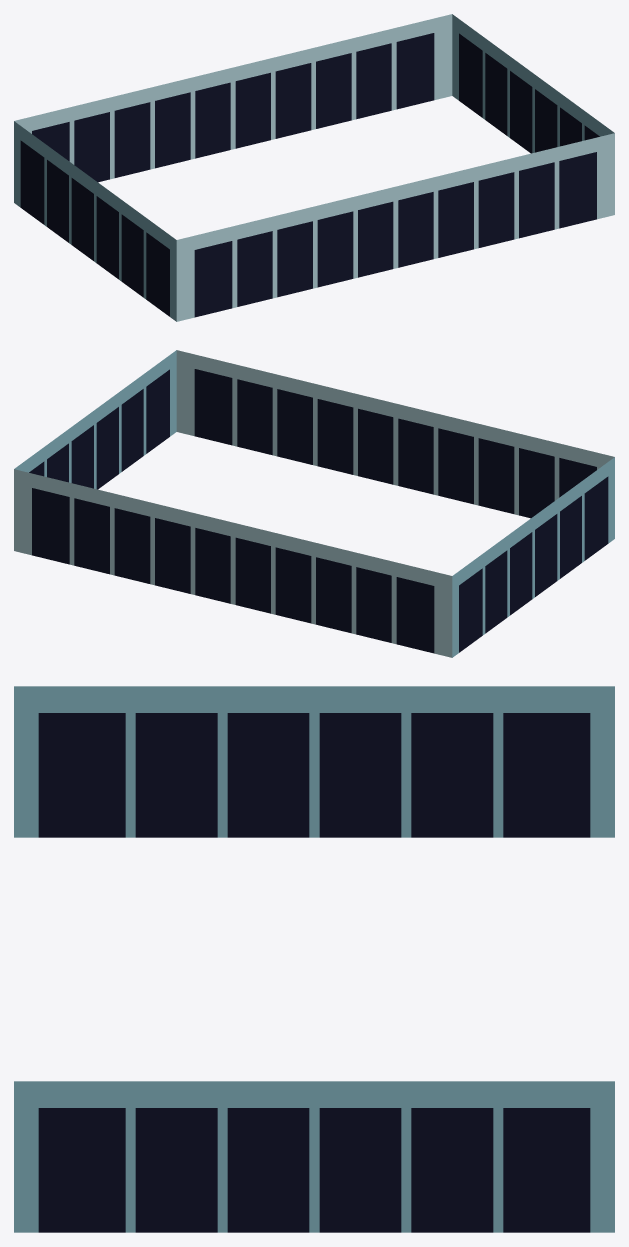
The model's file is TB_CITY_Skysc_E_BodyC_Blue.FBX.
3 views of the same model, one above another, from view 1: azimuth 30°, elevation 25°; view 2: azimuth 150°, elevation 25°; view 3: azimuth 270°, elevation 25° (orthographic). The views are drawn at different scales.
Visible parts, largest first — view 1: TB_CITY_Skysc_E_BodyC_Blue; view 2: TB_CITY_Skysc_E_BodyC_Blue; view 3: TB_CITY_Skysc_E_BodyC_Blue.
Boxes of the visible parts, bbox=[...] form: TB_CITY_Skysc_E_BodyC_Blue: bbox=[14, 14, 614, 321]; TB_CITY_Skysc_E_BodyC_Blue: bbox=[14, 350, 614, 657]; TB_CITY_Skysc_E_BodyC_Blue: bbox=[14, 686, 614, 1232].
Bounding box in the file's own units: 28 × 5 × 18.
